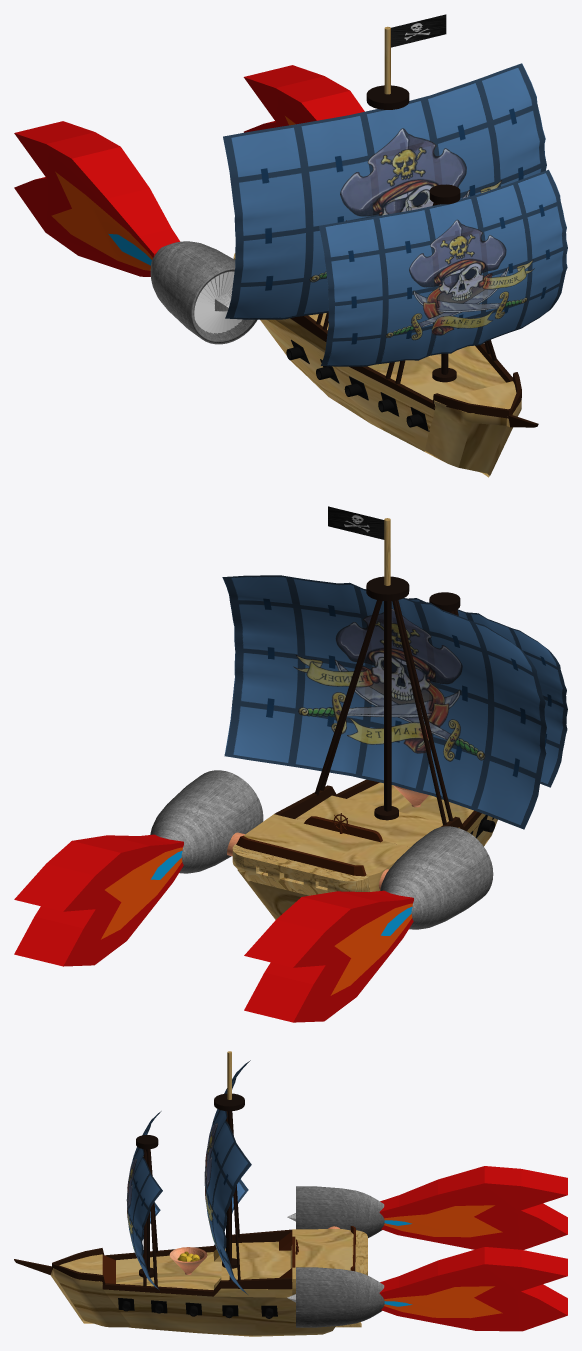
File: ship2.obj
The picture shows the model from 3 angles, top to bottom: view 1: azimuth 30°, elevation 25°; view 2: azimuth 150°, elevation 25°; view 3: azimuth 270°, elevation 25°; orthographic projection. The views are drawn at different scales.
Parts seen in each view (by area): view 1: pPlane14, pPlane13, boatBase, pCube111, pPlane16, pPlane15, pPipe118, pCube110, pCube2, pPlane8, pCylinder46; view 2: pPlane14, pPlane16, pCube110, pCube111, boatBase, pPipe118, pPipe117, pPlane13, pCube20, pCylinder47, pCube8, pPlane15 (+7 smaller); view 3: boatBase, pCube110, pCube111, pPipe117, pPlane14, pPipe118, pPlane13, pPlane16, pCube2, pPlane15, pCube20, pCone3 (+2 smaller).
Part boxes in pixels (box(x1,y1,x2,y2)): pPlane14: box(223, 63, 546, 319); pPlane13: box(319, 169, 567, 366); boatBase: box(260, 313, 538, 477); pCube111: box(14, 121, 179, 276); pPlane16: box(224, 65, 546, 319); pPlane15: box(320, 171, 567, 366); pPipe118: box(150, 241, 257, 344); pCube110: box(243, 65, 364, 132); pCube2: box(433, 372, 521, 418); pPlane8: box(391, 16, 446, 47); pCylinder46: box(366, 85, 409, 109); pPlane14: box(222, 575, 546, 829); pPlane16: box(223, 575, 546, 829); pCube110: box(14, 834, 183, 966); pCube111: box(244, 890, 413, 1022); boatBase: box(237, 779, 497, 919); pPipe118: box(380, 826, 493, 929); pPipe117: box(150, 770, 263, 873); pPlane13: box(406, 598, 567, 787); pCube20: box(232, 844, 369, 895); pCylinder47: box(384, 601, 391, 811); pCube8: box(236, 835, 366, 876); pPlane15: box(411, 598, 566, 786); boatBase: box(14, 1229, 355, 1336); pCube110: box(379, 1247, 567, 1331); pCube111: box(379, 1166, 567, 1249); pPipe117: box(296, 1267, 384, 1327); pPlane14: box(204, 1060, 251, 1294); pPipe118: box(296, 1186, 384, 1237); pPlane13: box(126, 1111, 162, 1289); pPlane16: box(205, 1066, 249, 1290); pCube2: box(52, 1248, 105, 1285); pPlane15: box(127, 1113, 161, 1283); pCube20: box(352, 1230, 367, 1275); pCone3: box(169, 1247, 207, 1273).
Bounding box in the file's own units: 16.4 × 19.1 × 35.
Materials: 16 (5 with a texture image).
